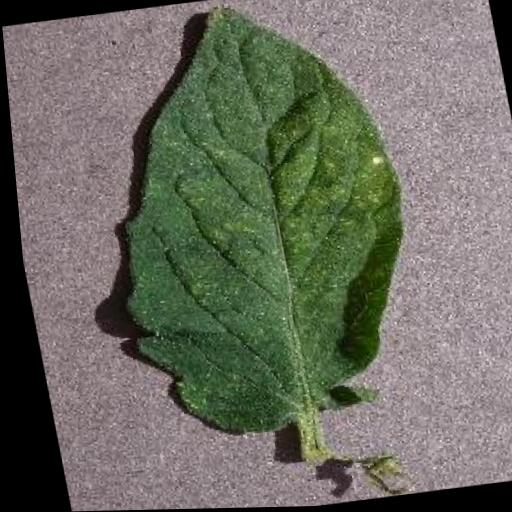Spider Mites: (65, 0, 436, 450)
